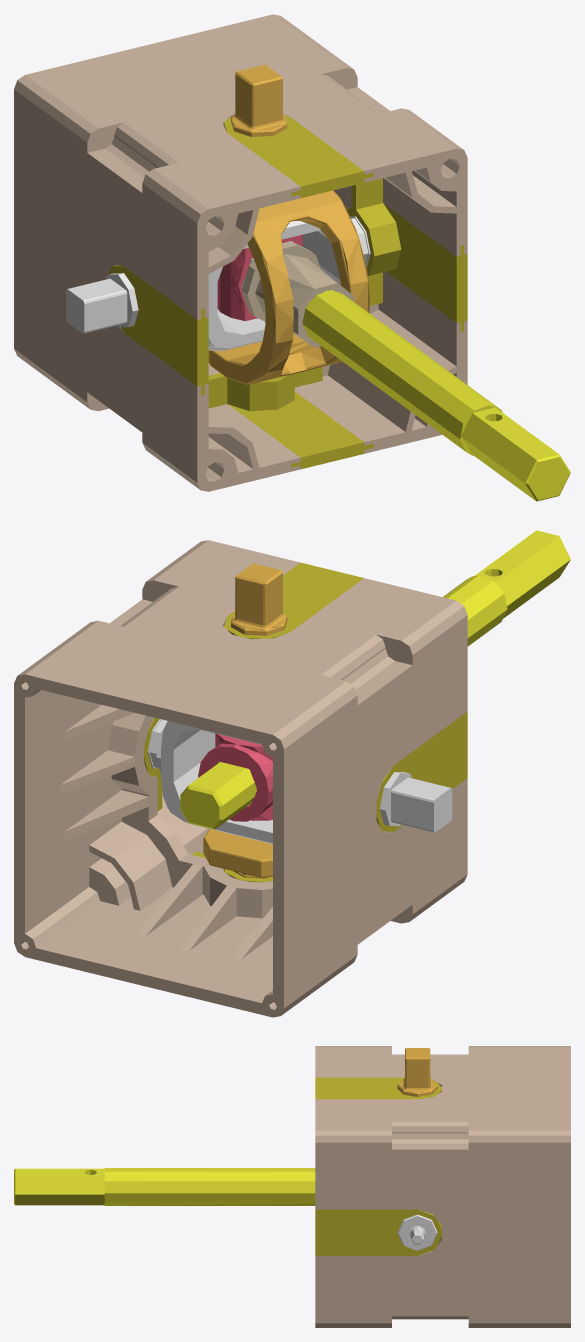
The model's file is Schaltung_gruppiert.fbx.
3 views of the same model, one above another, from view 1: azimuth 30°, elevation 25°; view 2: azimuth 150°, elevation 25°; view 3: azimuth 270°, elevation 25° (orthographic). The views are drawn at different scales.
Parts seen in each view (by area): view 1: object16, object4, object1, object14, object12, object2, object15, object13, object3, object11; view 2: object16, object4, object2, object1, object15, object13, object11; view 3: object16, object4, object14, object13, object1, object2.
Boxes of the visible parts, x1,y1,x2,y2 form: object16: (14,14,467,491); object4: (302,290,570,501); object1: (208,64,369,384); object14: (346,178,467,332); object12: (208,367,373,469); object2: (66,216,370,350); object15: (109,265,208,395); object13: (223,115,373,197); object3: (241,241,353,347); object11: (217,234,302,321); object16: (14,540,467,1017); object4: (180,530,570,829); object2: (147,719,452,844); object1: (203,563,287,878); object15: (376,711,467,831); object13: (224,562,363,639); object11: (198,733,272,821); object16: (315,1046,570,1327); object4: (14,1168,315,1205); object14: (315,1209,441,1255); object13: (315,1077,441,1099); object1: (397,1048,437,1096); object2: (397,1214,437,1250).
Bounding box in the file's own units: 107 × 107 × 218.
